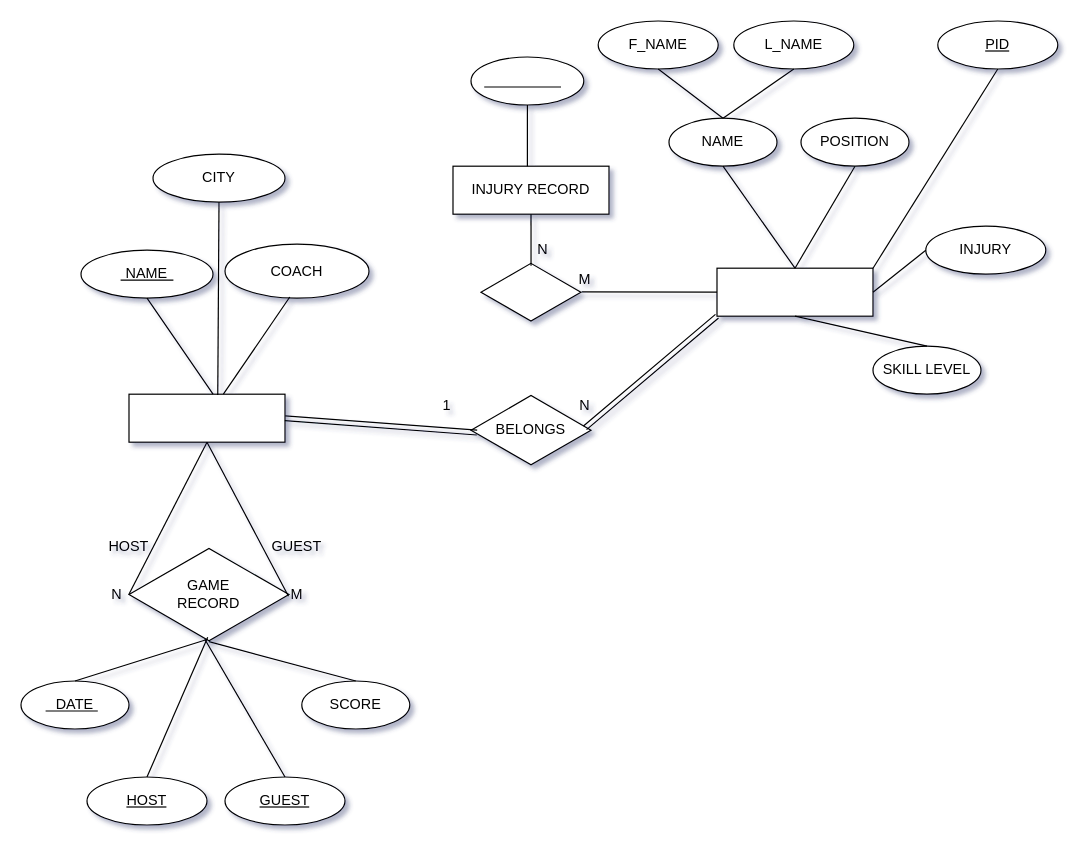
This 1086x853 diagram has some shape labels left out. Each missing label, with the centre of its shape:
"INJURED" belongs at point (530, 291).
"INJURY NAME" belongs at point (527, 80).
"PLAYER" belongs at point (794, 291).
"TEAM" belongs at point (206, 417).
